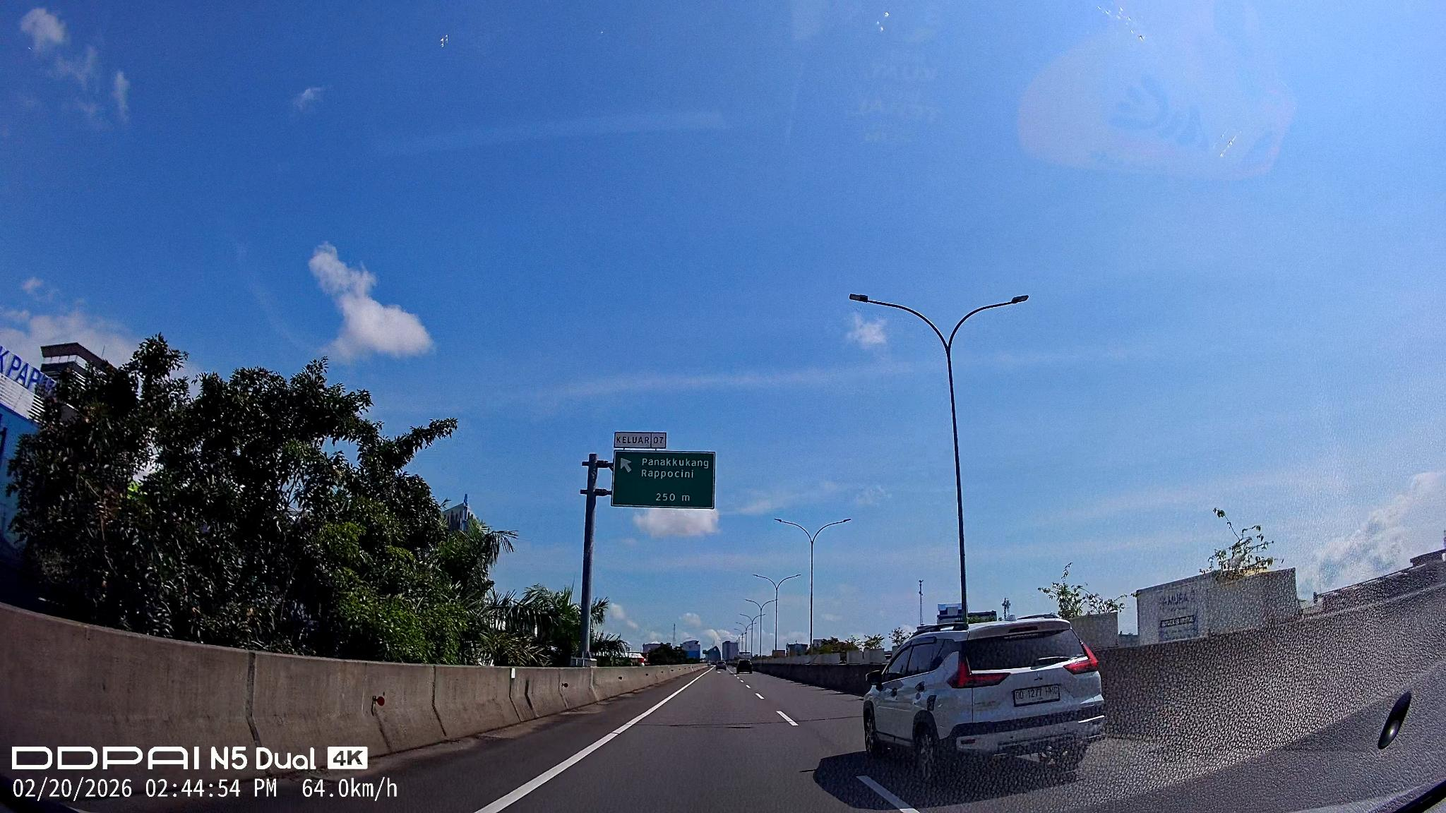rambu_teks: (611, 449, 716, 509)
